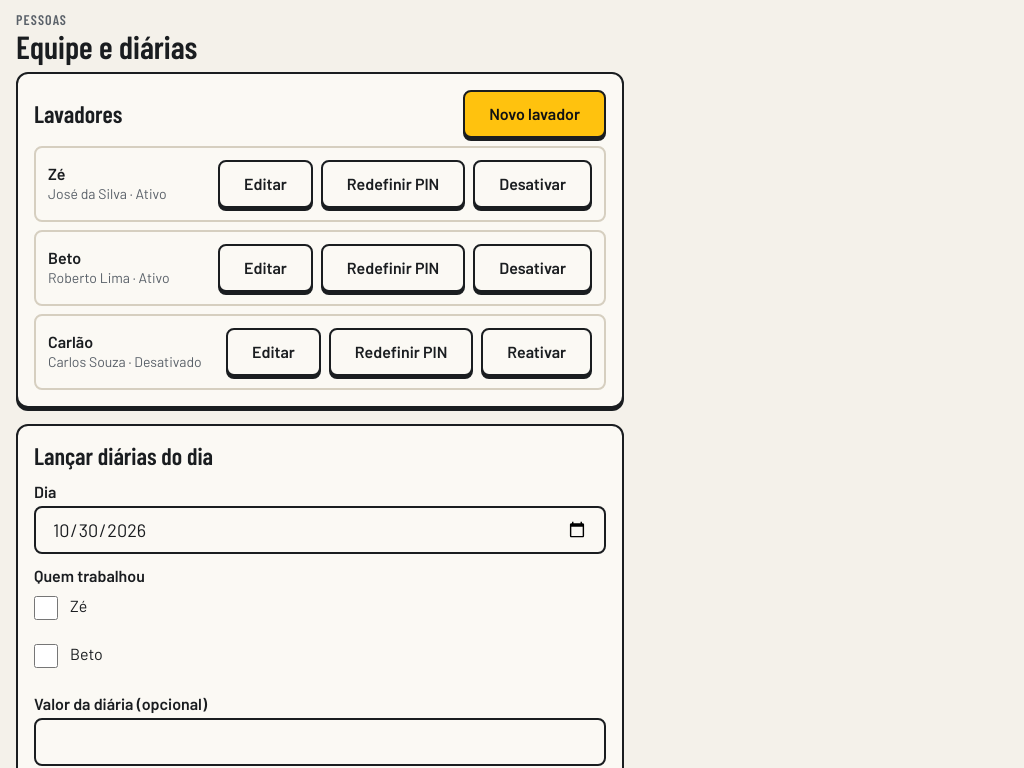
Equipe e diárias › mostra no campo o erro da API para apelido repetido (409) e PIN óbvio (422)
The width and height of the screenshot is (1024, 768).
Click the button "Novo lavador".
click(535, 114)  # box x1=463 y1=90 x2=606 y2=138
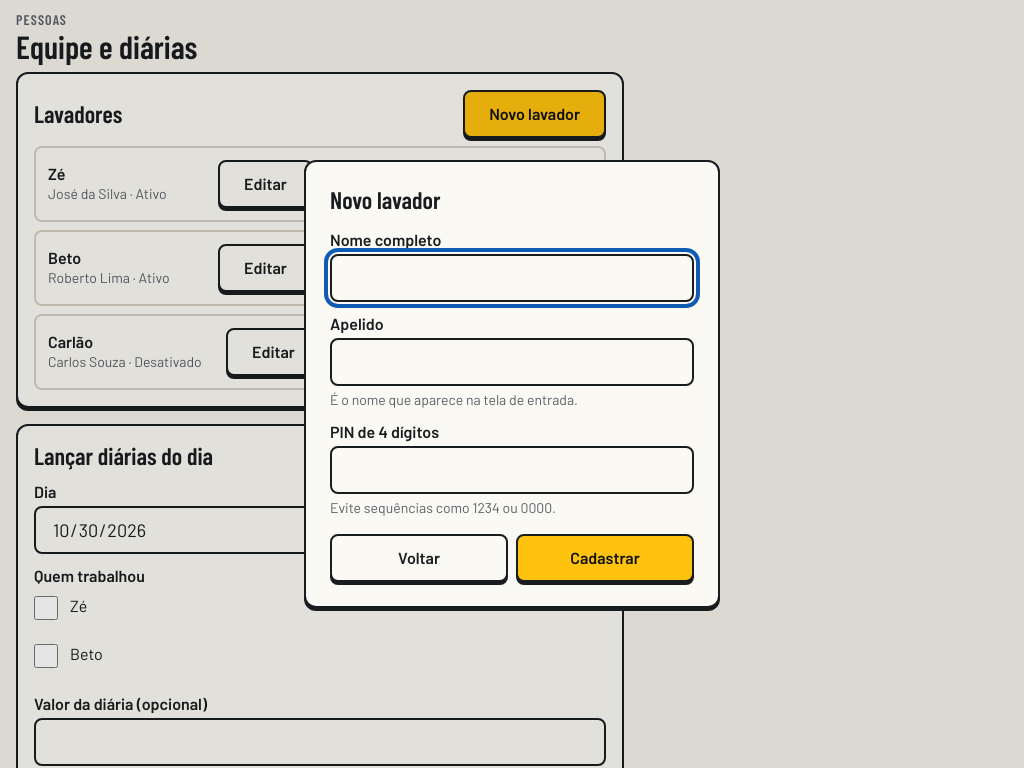
Type "Pedro Alves" into the field labelled "Nome completo".
click(512, 278); type("Pedro Alves")  # box x1=330 y1=254 x2=694 y2=302
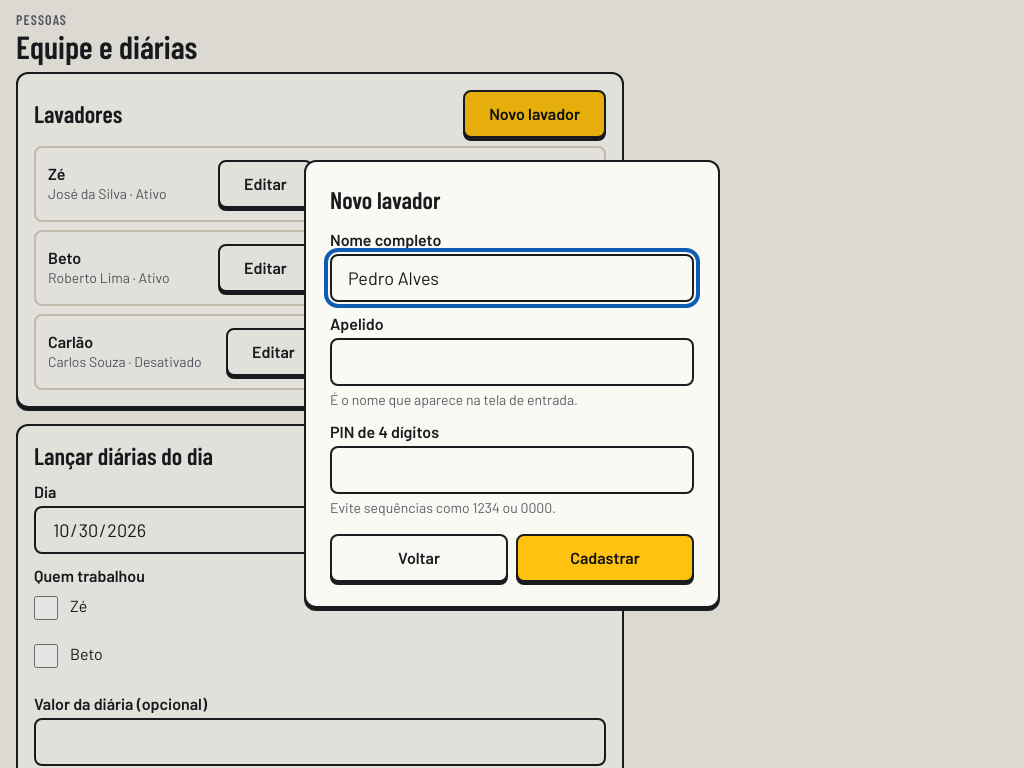
Type "Zé" into the field labelled "Apelido".
click(512, 362); type("Zé")  # box x1=330 y1=338 x2=694 y2=386
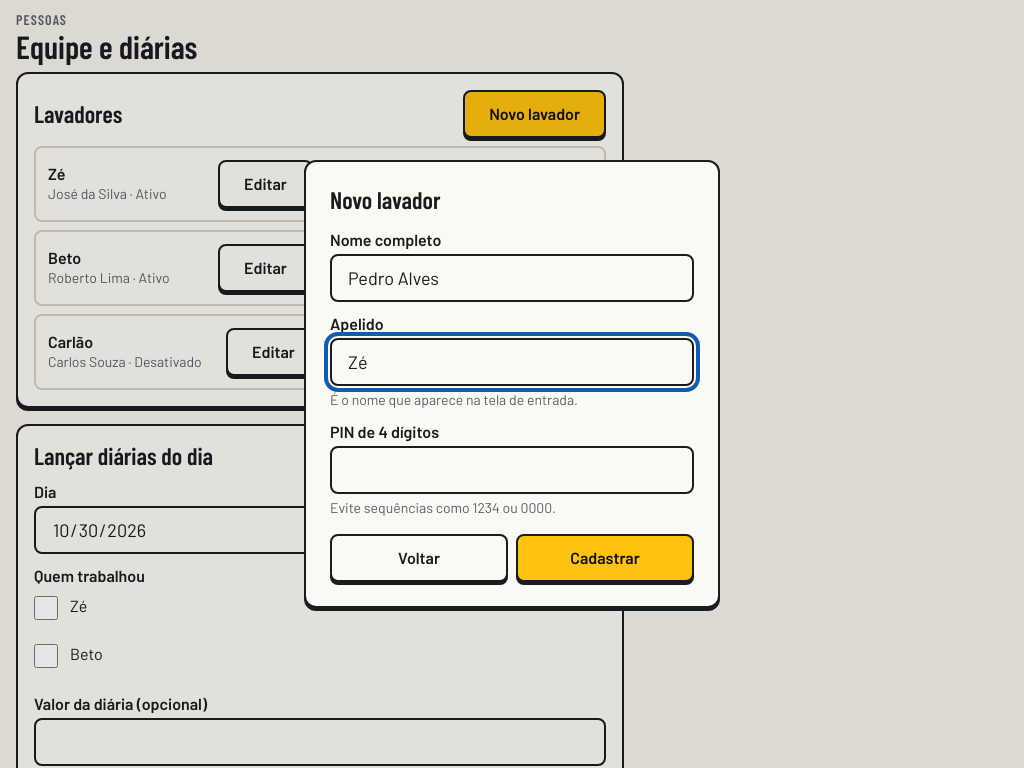
Type "4829" into the field labelled "PIN de 4 dígitos".
click(512, 470); type("4829")  # box x1=330 y1=446 x2=694 y2=494
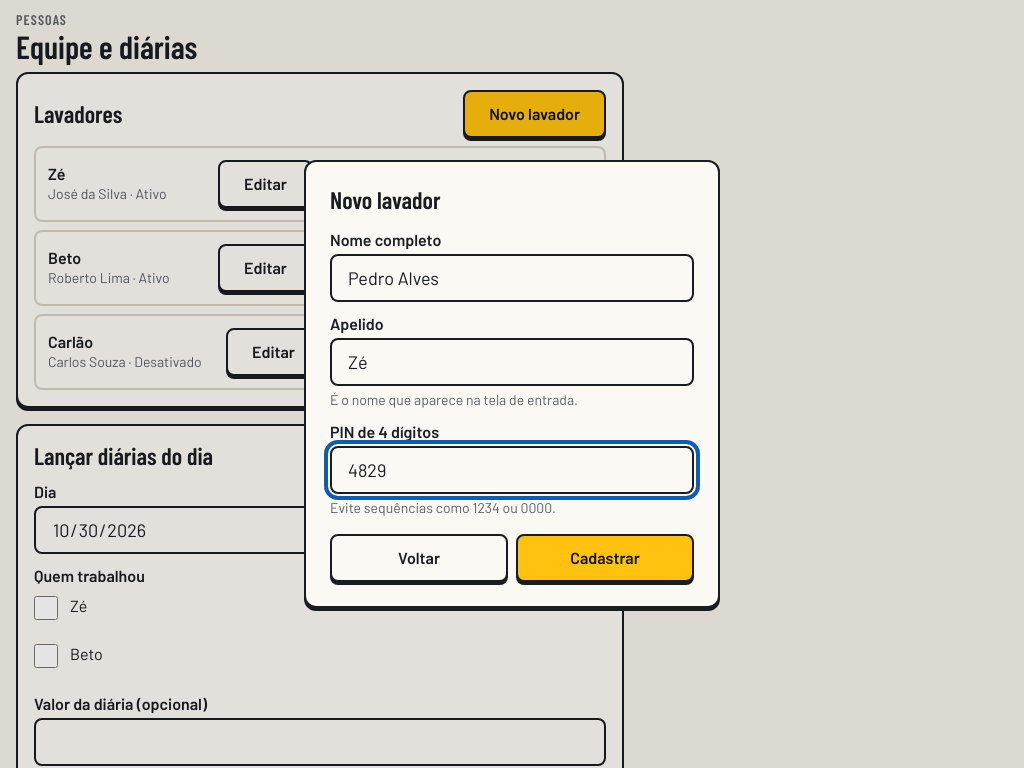
Click the button "Cadastrar".
click(605, 558)  # box x1=516 y1=534 x2=694 y2=582
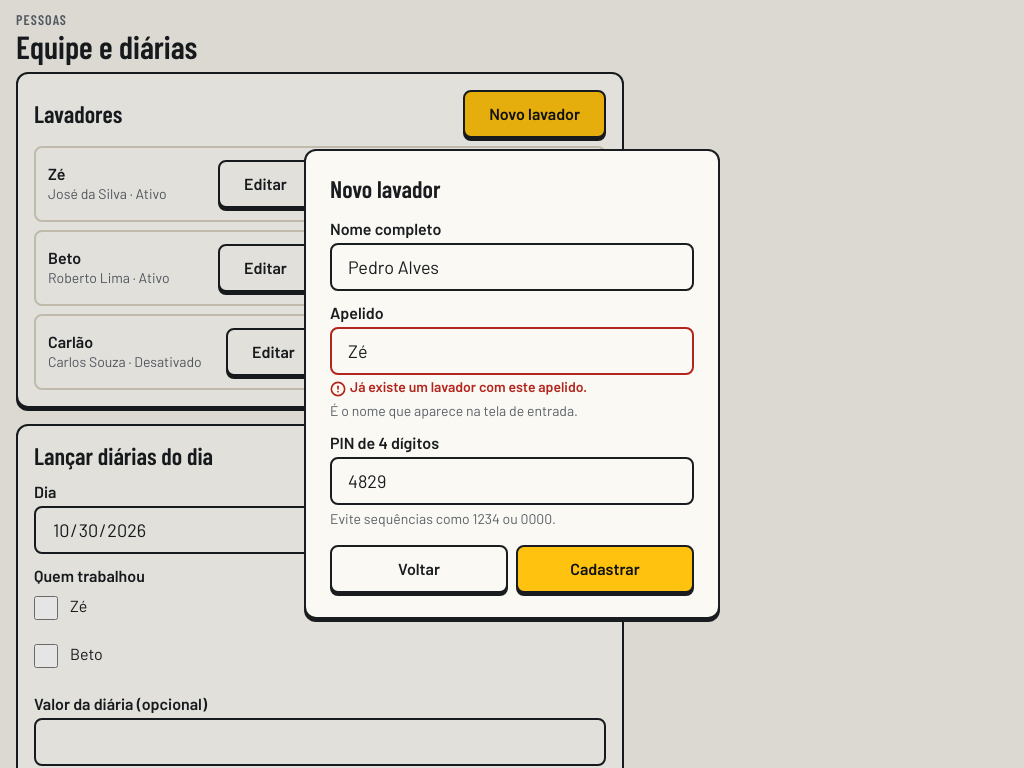
Result: the text "Já existe um lavador com este apelido." is shown at x1=330 y1=378 x2=587 y2=397
